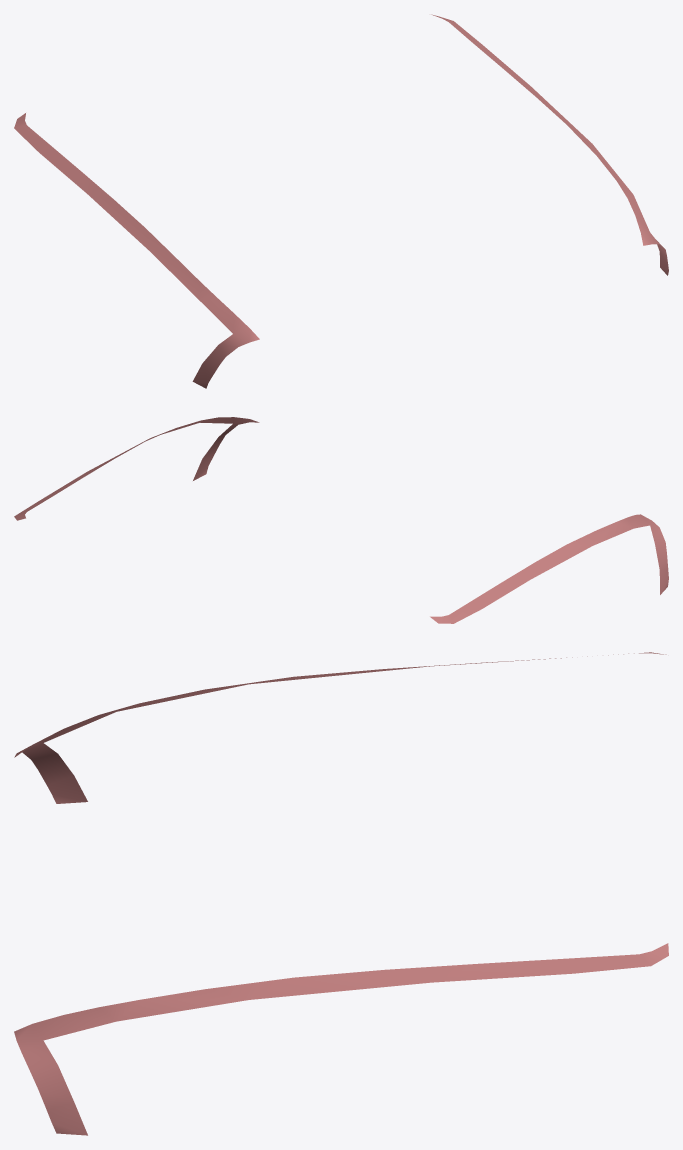
Rendered from MX5_Fender01_Trim.fbx.
3 views of the same model, one above another, from view 1: azimuth 30°, elevation 25°; view 2: azimuth 150°, elevation 25°; view 3: azimuth 270°, elevation 25° (orthographic). The views are drawn at different scales.
Visible parts, largest first — view 1: MX5_Fender01_Trim; view 2: MX5_Fender01_Trim; view 3: MX5_Fender01_Trim.
Part boxes in pixels (x1,y1,x2,y2): MX5_Fender01_Trim: (14, 14, 668, 388); MX5_Fender01_Trim: (14, 417, 668, 623); MX5_Fender01_Trim: (14, 652, 668, 1135).
Size of the model in its own units: 144 by 34.14 by 119.
